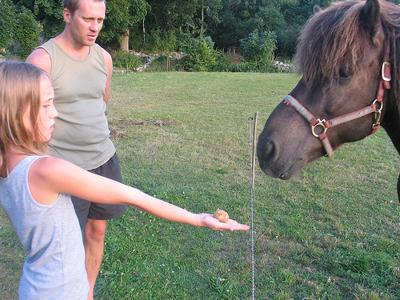person: (2, 62, 250, 300)
